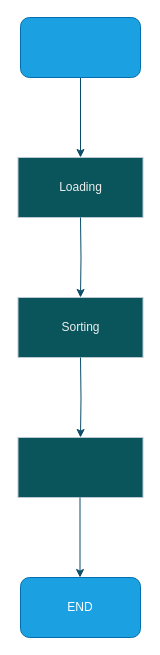
Image size: 160x655. Some labels were removed from this diagram. Here are the shapes that lost their labels. From the top down, the centre of each, then its label:
the point at 80,47: START
the point at 80,467: Storing
